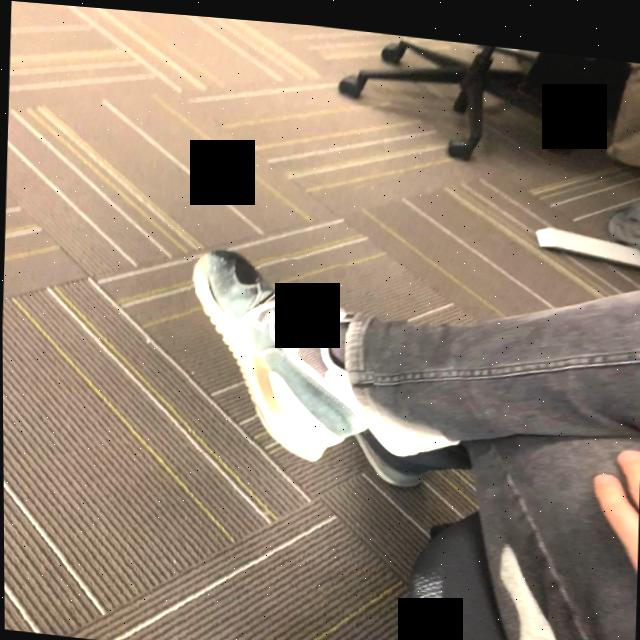shoe: (191, 247, 372, 459)
